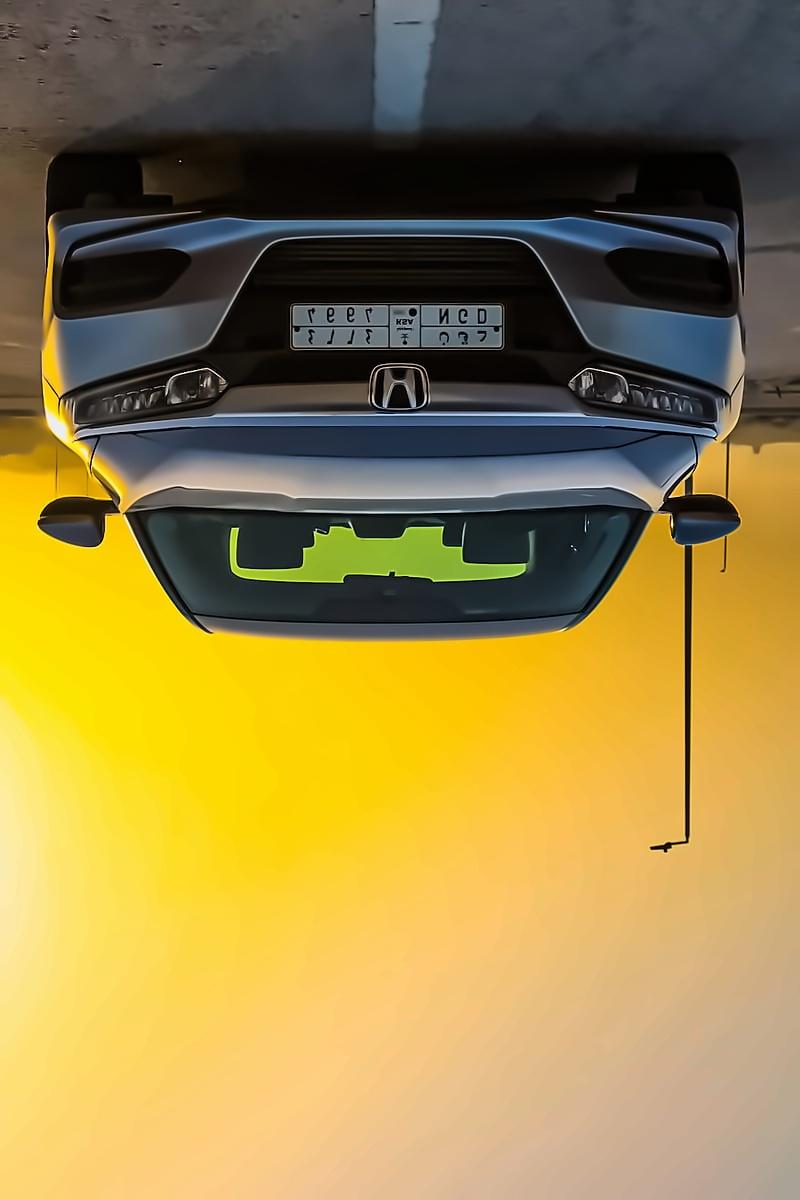Car hood: (90, 416, 704, 522)
Front bumper: (34, 191, 757, 383)
Headlight - -L-: (55, 361, 236, 441)
Headlight - -R-: (561, 356, 726, 430)
Side mirror - -L-: (33, 489, 133, 554)
Side mirror - -R-: (655, 485, 749, 556)
